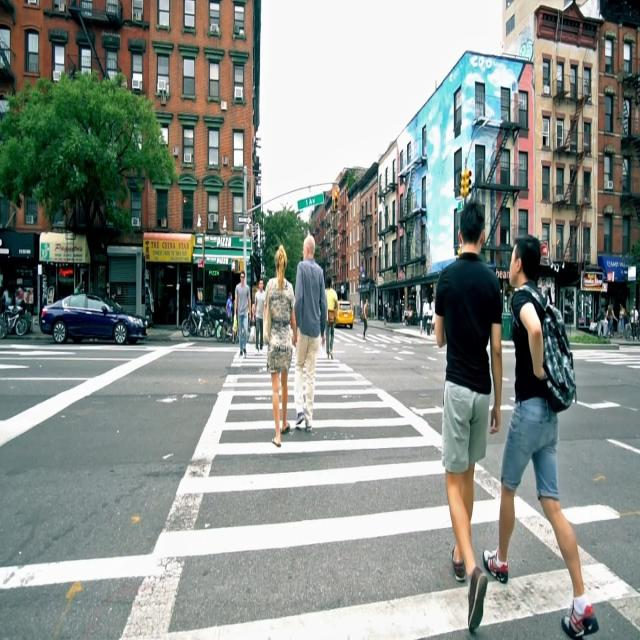Persona: (503, 221, 605, 638), (432, 187, 505, 638), (261, 234, 298, 456), (292, 226, 331, 431)
